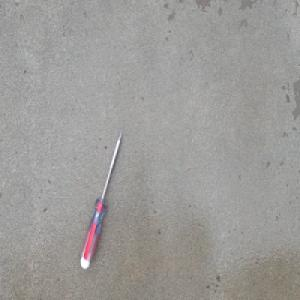Screwdriver: (80, 129, 123, 270)
